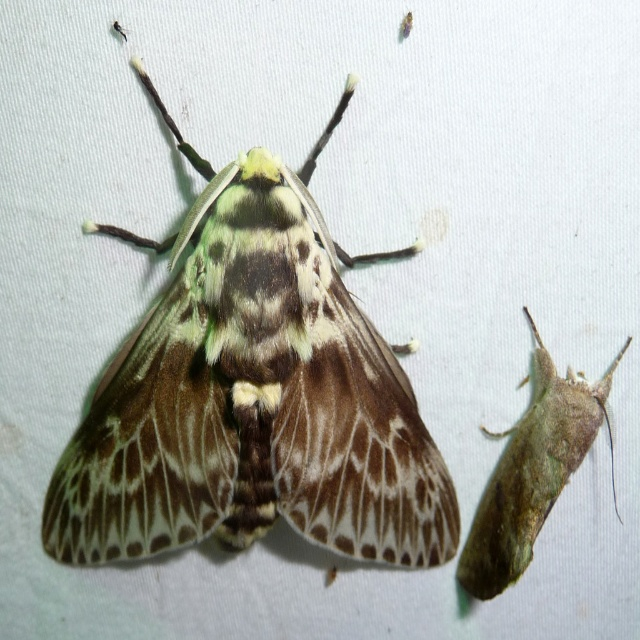Moths and butterflies: (42, 53, 460, 571), (454, 307, 635, 602)
